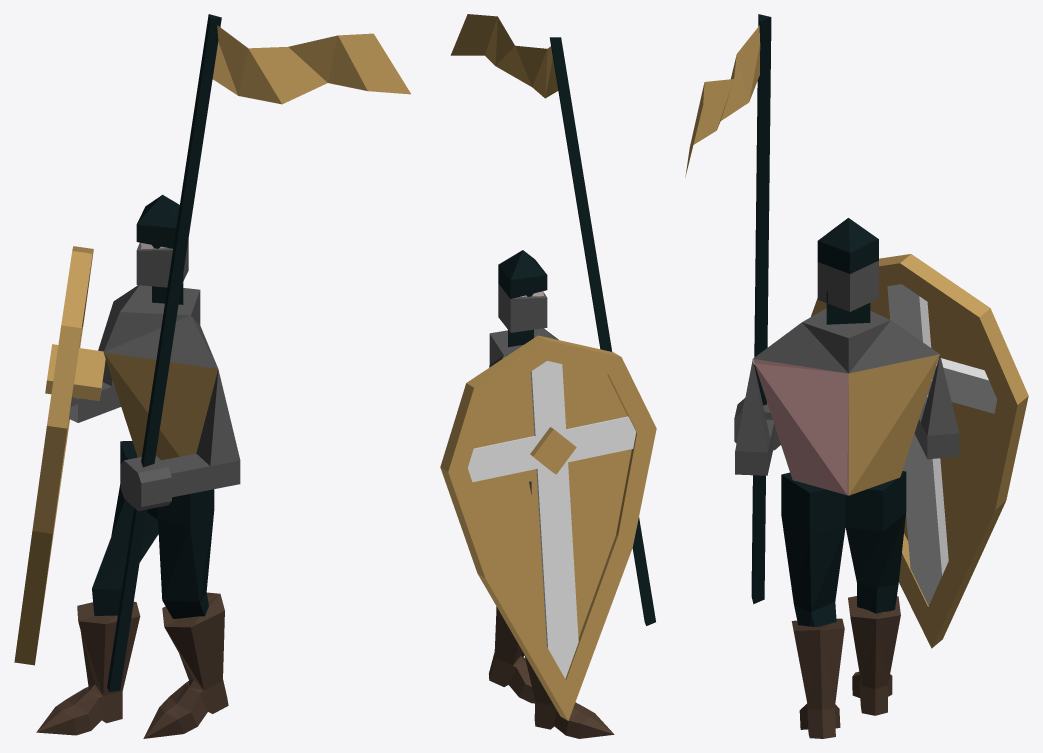
The picture shows the model from 3 angles, left to right: view 1: azimuth 30°, elevation 25°; view 2: azimuth 150°, elevation 25°; view 3: azimuth 270°, elevation 25°; orthographic projection. The views are drawn at different scales.
Visible parts, largest first — view 1: SOLDER_4_1; view 2: SOLDER_4_1; view 3: SOLDER_4_1.
Part boxes in pixels (x1=…): SOLDER_4_1: x1=14, y1=14, x2=410, y2=738; SOLDER_4_1: x1=440, y1=14, x2=656, y2=738; SOLDER_4_1: x1=685, y1=14, x2=1028, y2=738.
Bounding box in the file's own units: 125 × 292 × 127.
1 material, 1 textured.
